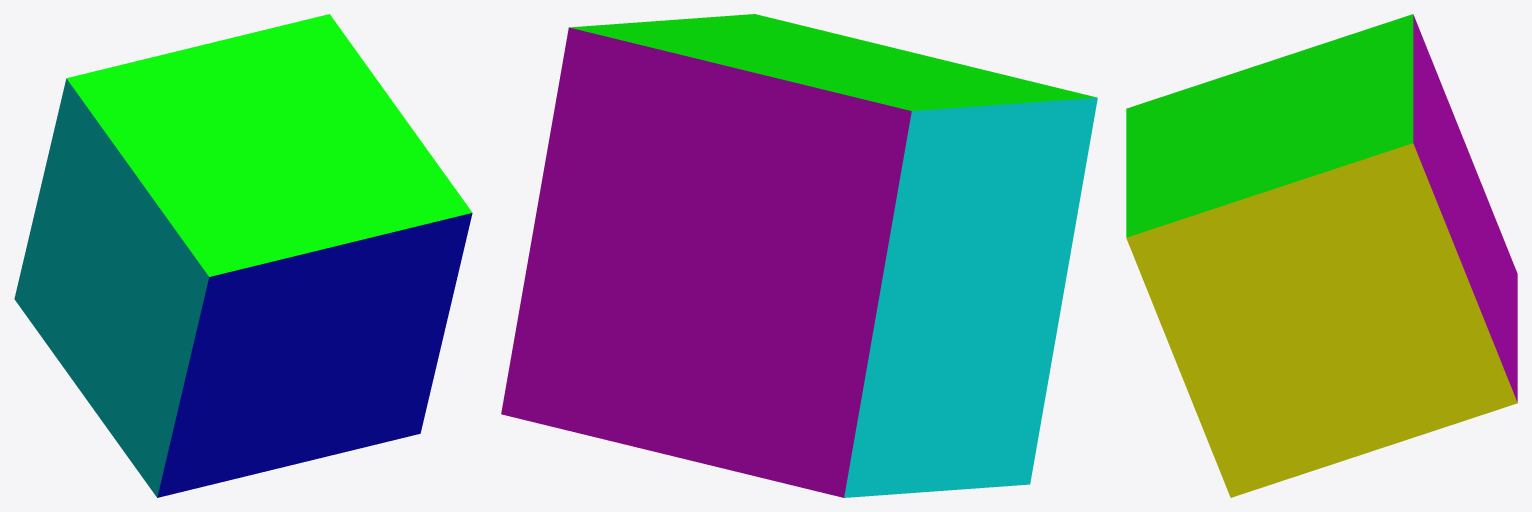
Rendered from cubeDirectly.glb.
3 views of the same model, side by side, from view 1: azimuth 30°, elevation 25°; view 2: azimuth 150°, elevation 25°; view 3: azimuth 270°, elevation 25° (orthographic). The views are drawn at different scales.
Size of the model in its own units: 2 by 2.56 by 2.56.
